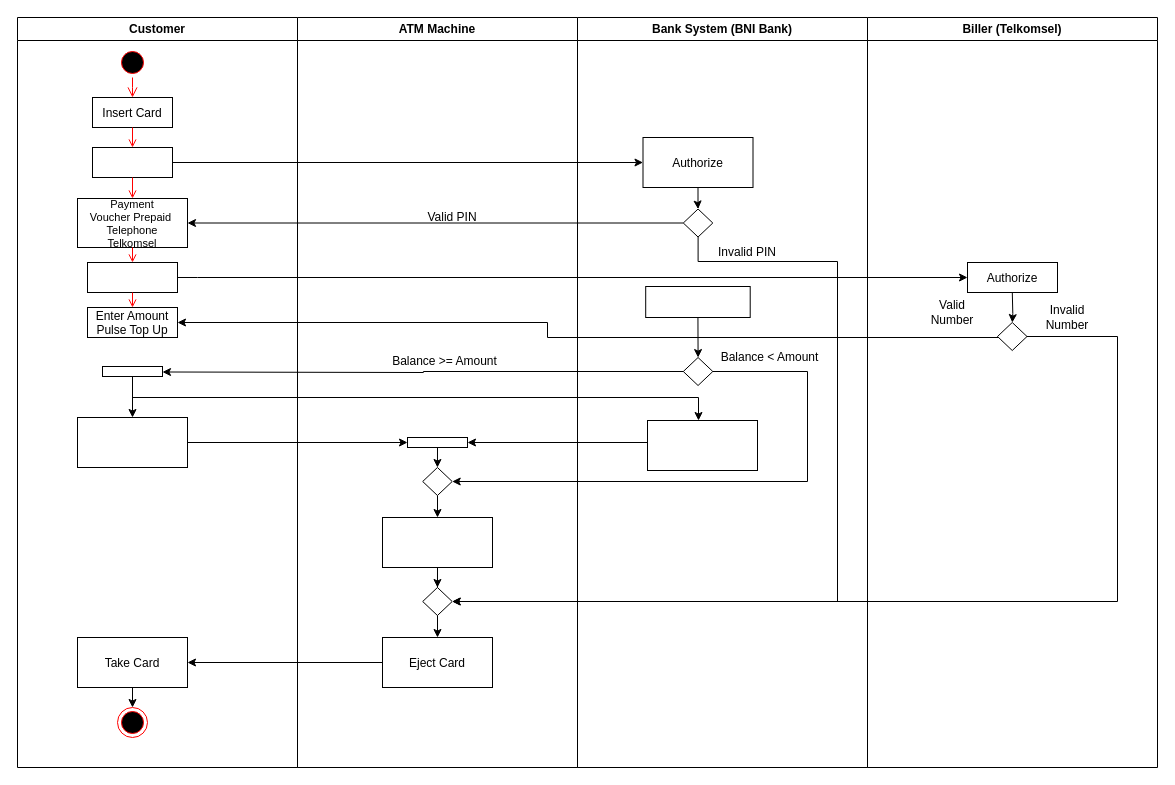
Some shapes in this 1175 by 785 pixel diagram are drawn without their labels. The shapes that lost their labels are listed below. From the top down, each one's centre as x and y in pixels, then its label:
At point 132,162: "Enter PIN".
At point 132,277: "Enter Number".
At point 697,302: "Check Account Balance".
At point 132,442: "Take Proof of Payment".
At point 702,445: "Debit Account".
At point 437,542: "Show Balance".
